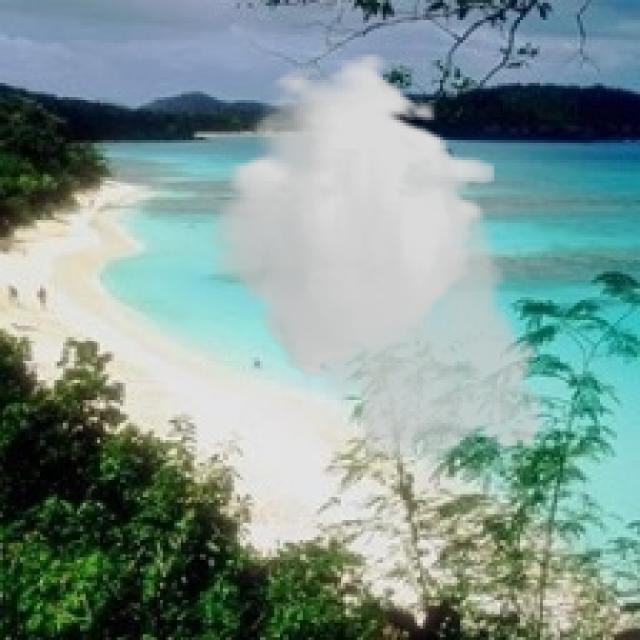Smoke: (211, 52, 560, 477)
